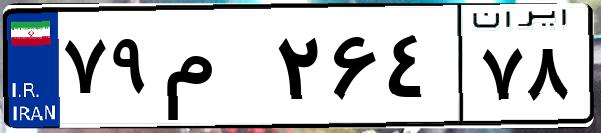2: (270, 28, 330, 110)
4: (385, 28, 445, 110)
6: (330, 28, 385, 110)
7: (57, 26, 110, 100), (475, 38, 525, 113)
8: (525, 38, 570, 115)
9: (110, 28, 158, 98)
م: (158, 20, 270, 120)
